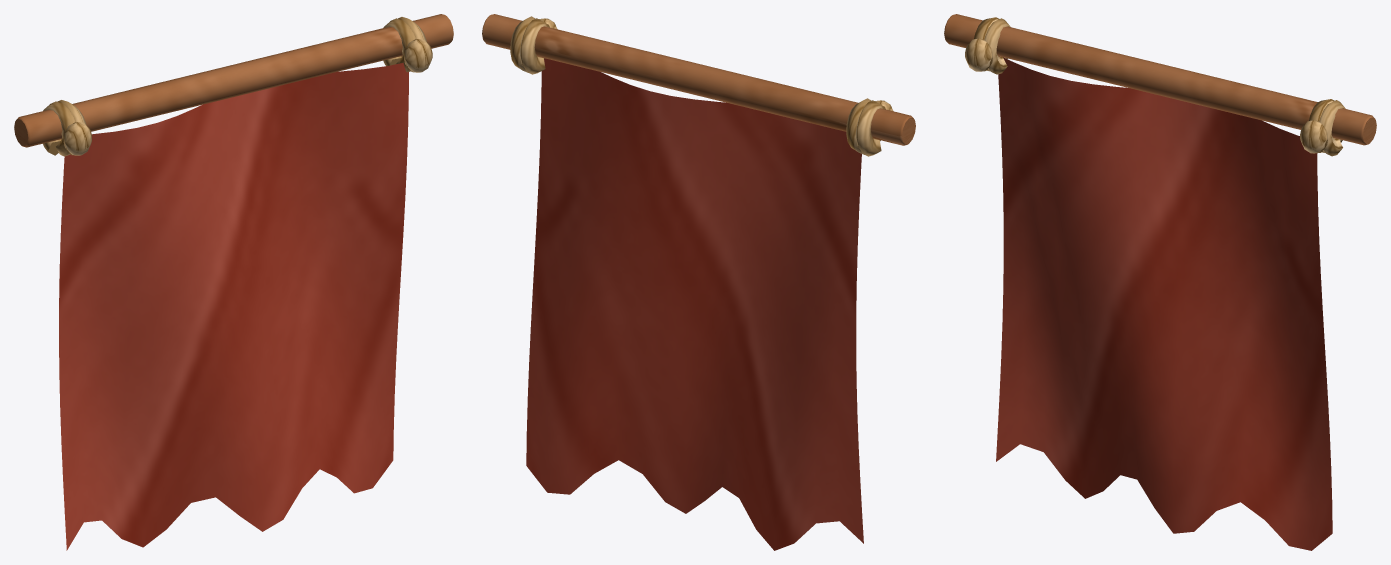
The model's file is SM_Banner_Red.glb.
The picture shows the model from 3 angles, left to right: view 1: azimuth 30°, elevation 25°; view 2: azimuth 150°, elevation 25°; view 3: azimuth 330°, elevation 25°; orthographic projection.
Visible parts, largest first — view 1: SM_Banner_Red; view 2: SM_Banner_Red; view 3: SM_Banner_Red.
Part boxes in pixels (box(x1,y1,x2,y2)): SM_Banner_Red: box(14, 14, 453, 550); SM_Banner_Red: box(482, 14, 915, 550); SM_Banner_Red: box(944, 14, 1376, 550).
Size of the model in its own units: 1.4 by 1.48 by 0.1971.
1 material, 1 textured.
